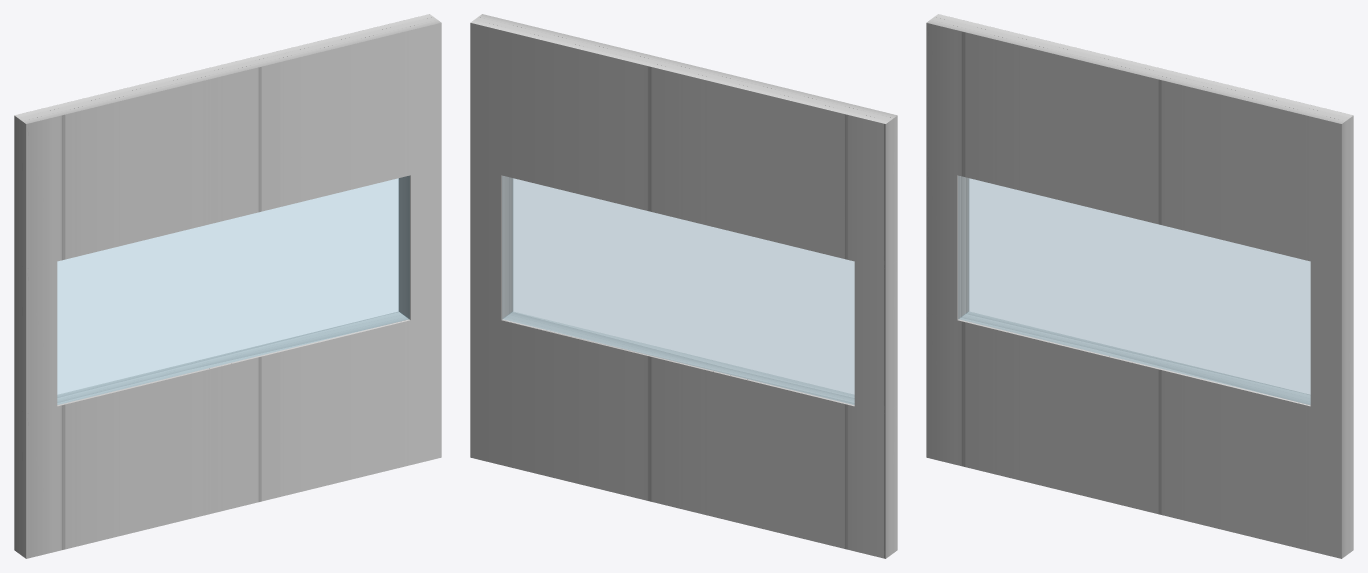
File: WindowWall.fbx
3 renders of one model, left to right at view 1: azimuth 30°, elevation 25°; view 2: azimuth 150°, elevation 25°; view 3: azimuth 330°, elevation 25°, orthographic.
Parts seen in each view (by area): view 1: Cube.019; view 2: Cube.019; view 3: Cube.019.
Part boxes in pixels (x1=…): Cube.019: x1=14, y1=14, x2=441, y2=558; Cube.019: x1=470, y1=14, x2=897, y2=558; Cube.019: x1=926, y1=14, x2=1353, y2=558.
Bounding box in the file's own units: 400 × 400 × 20.
2 materials, 1 textured.
